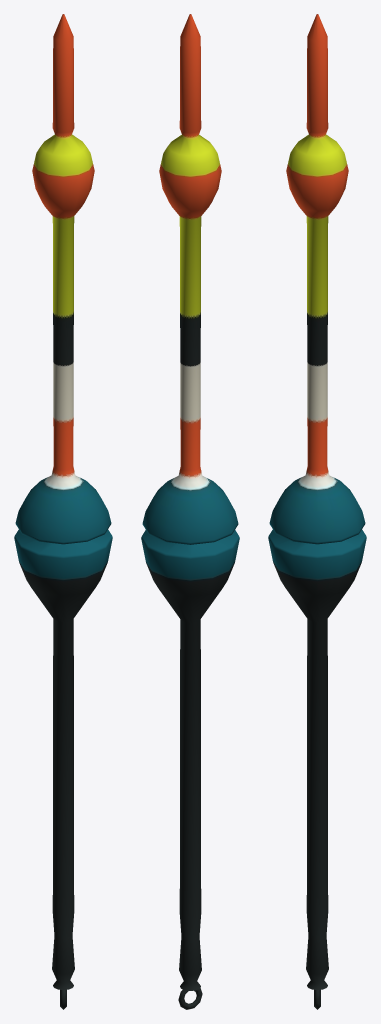
The picture shows the model from 3 angles, left to right: view 1: azimuth 90°, elevation 25°; view 2: azimuth 210°, elevation 25°; view 3: azimuth 270°, elevation 25°; orthographic projection.
Parts seen in each view (by area): view 1: F07_Float; view 2: F07_Float; view 3: F07_Float.
Boxes of the visible parts, bbox=[...] form: F07_Float: bbox=[14, 14, 112, 1009]; F07_Float: bbox=[141, 14, 239, 1009]; F07_Float: bbox=[268, 14, 366, 1009].
Bounding box in the file's own units: 0.0144 × 0.16 × 0.0144.
Materials: 1 (1 with a texture image).
